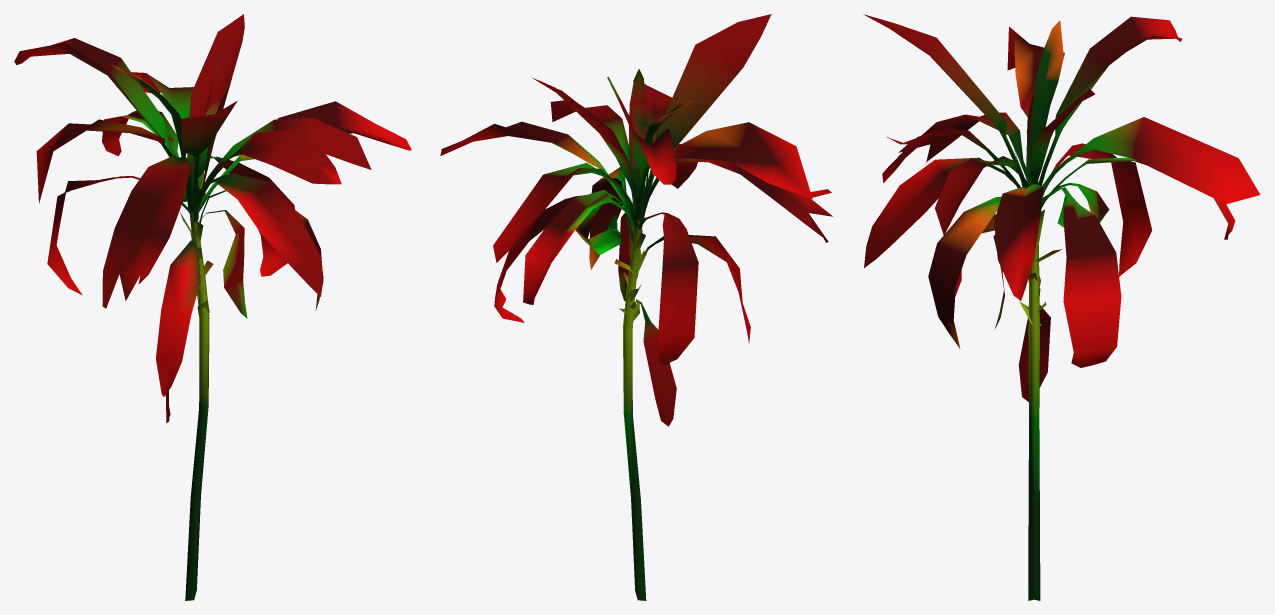
The model's file is Var12_LOD1.fbx.
The picture shows the model from 3 angles, left to right: view 1: azimuth 30°, elevation 25°; view 2: azimuth 150°, elevation 25°; view 3: azimuth 270°, elevation 25°; orthographic projection. The views are drawn at different scales.
Parts seen in each view (by area): view 1: _e6ba_Var12_LOD1; view 2: _e6ba_Var12_LOD1; view 3: _e6ba_Var12_LOD1.
Part boxes in pixels (<box>): _e6ba_Var12_LOD1: <box>14,14,411,600</box>; _e6ba_Var12_LOD1: <box>440,14,832,600</box>; _e6ba_Var12_LOD1: <box>863,14,1260,600</box>.
Bounding box in the file's own units: 29.72 × 41.7 × 26.71.
